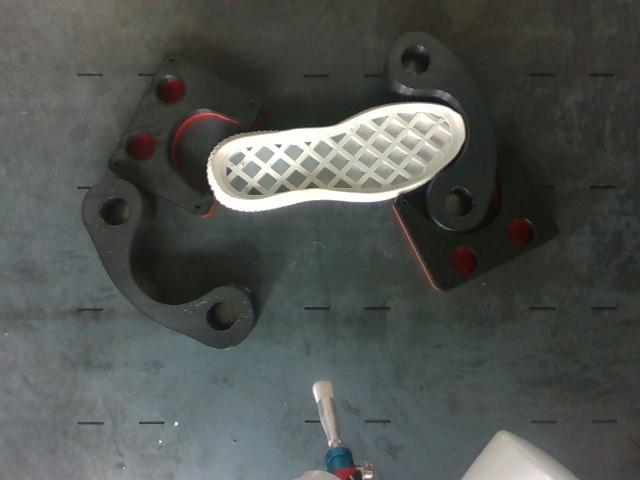shoes: (211, 104, 465, 200)
